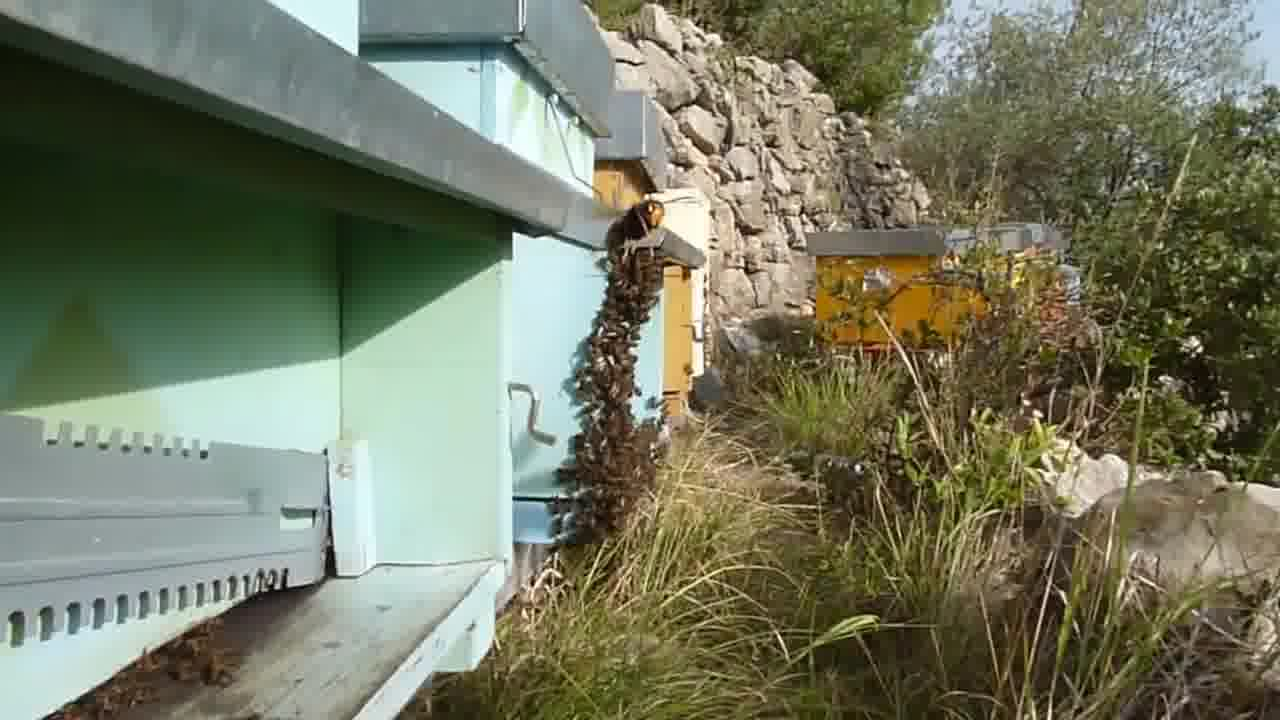bee: (576, 414, 662, 497), (571, 332, 648, 411), (598, 258, 666, 330), (157, 645, 240, 685), (101, 675, 153, 714)
hornet: (599, 175, 663, 255)
